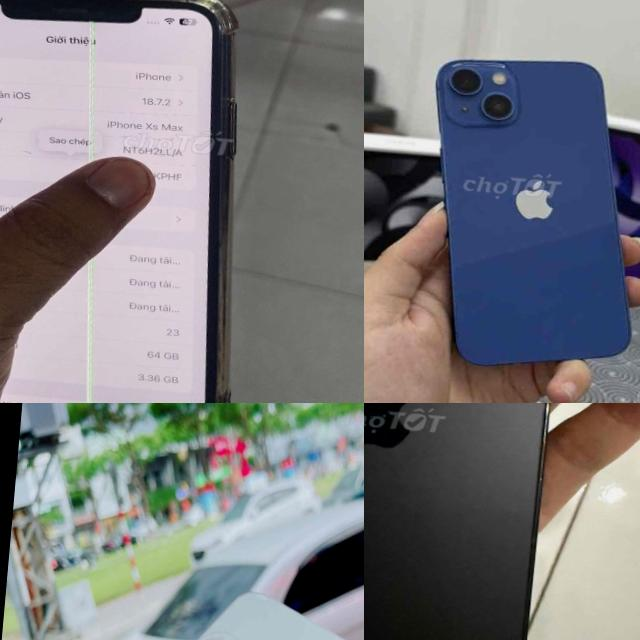gen_12_13: (407, 46, 640, 383)
gen_14: (364, 403, 597, 640)
gen_x_xs: (0, 0, 288, 403)
scratch: (208, 18, 230, 41)
screen_defect: (64, 249, 116, 403), (72, 18, 110, 164)
